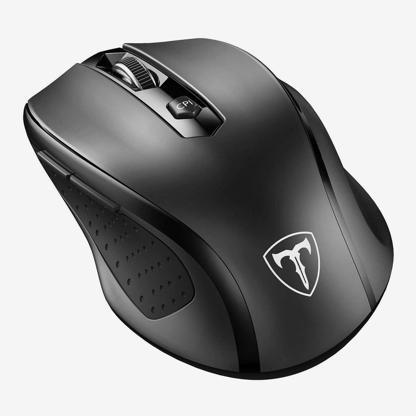not trash: (24, 38, 393, 378)
